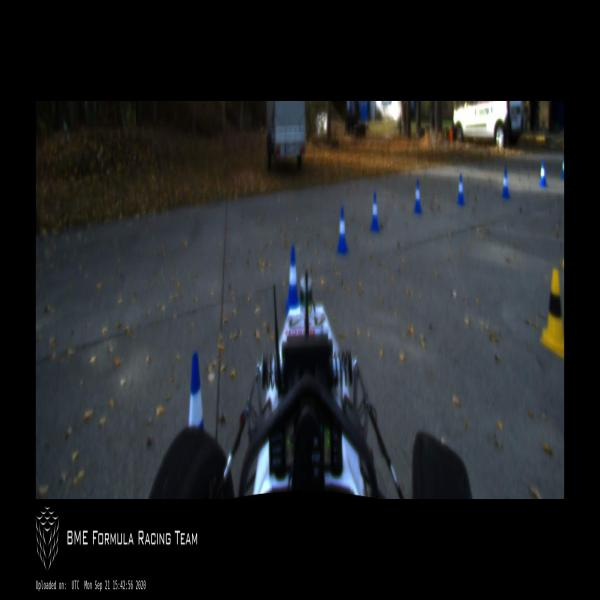blue_cone: (189, 351, 204, 428), (286, 245, 300, 313), (337, 206, 348, 254), (370, 192, 380, 232), (413, 179, 422, 213), (456, 173, 465, 205), (502, 166, 510, 199), (539, 161, 547, 187), (561, 156, 564, 179)
yellow_cone: (539, 268, 564, 360)
